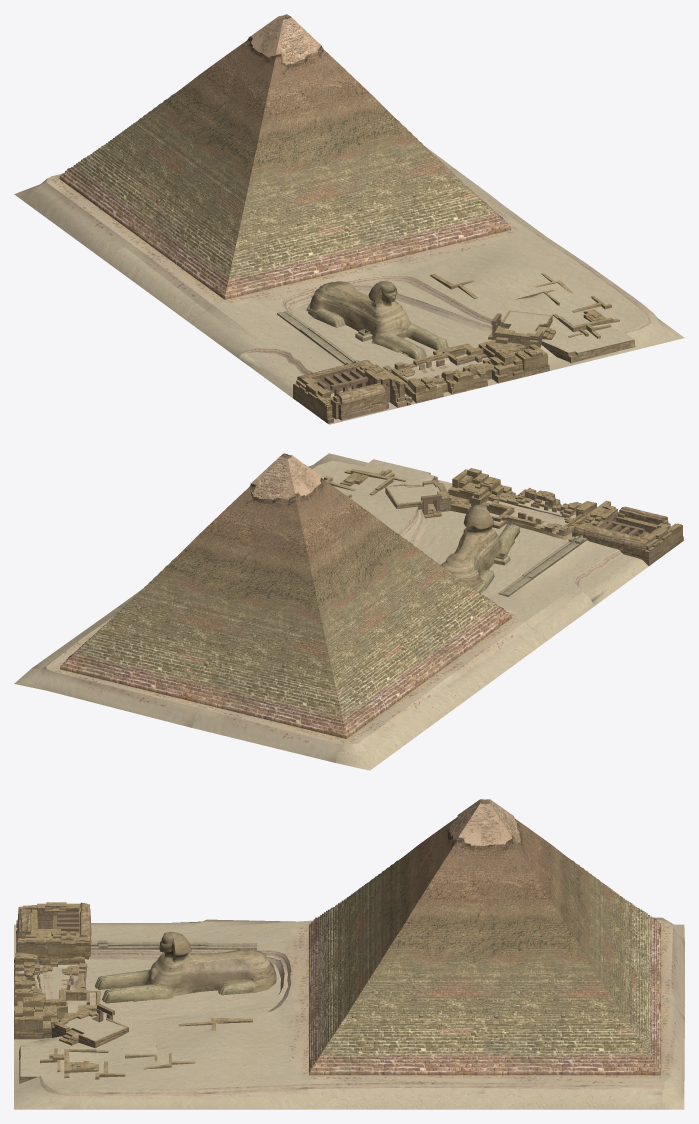
Rendered from B_ldm_CairoPyramidKephrenSphinx_T3.dae.
3 renders of one model, top to bottom at view 1: azimuth 30°, elevation 25°; view 2: azimuth 150°, elevation 25°; view 3: azimuth 270°, elevation 25°, orthographic. The views are drawn at different scales.
Parts seen in each view (by area): view 1: B_ldm_CairoPyramidKephrenSphinx_T3_L1; view 2: B_ldm_CairoPyramidKephrenSphinx_T3_L1; view 3: B_ldm_CairoPyramidKephrenSphinx_T3_L1.
Part boxes in pixels (x1,y1,x2,y2): B_ldm_CairoPyramidKephrenSphinx_T3_L1: (14, 14, 684, 424); B_ldm_CairoPyramidKephrenSphinx_T3_L1: (14, 453, 684, 770); B_ldm_CairoPyramidKephrenSphinx_T3_L1: (14, 799, 684, 1109).
Bounding box in the file's own units: 30049 × 46042 × 16388.
